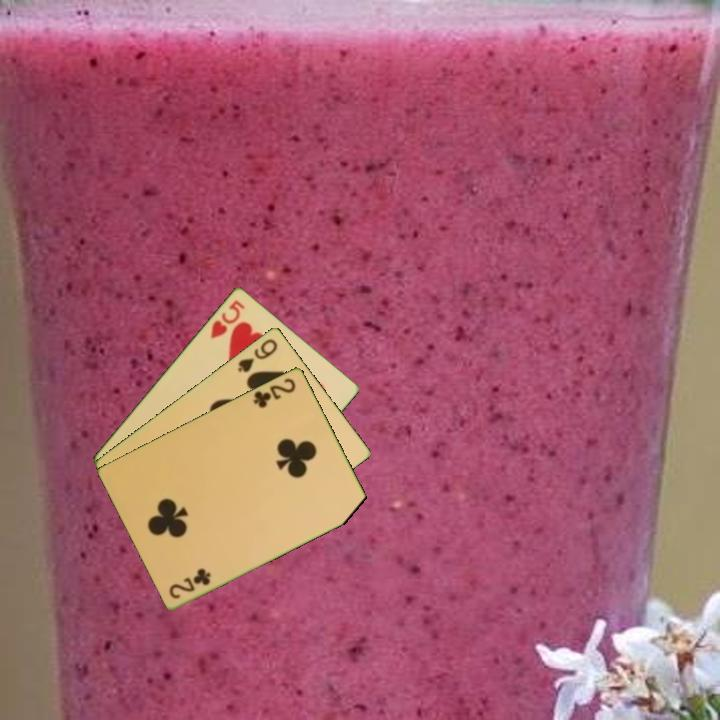2c: (250, 374, 299, 411), (165, 565, 214, 601)
5h: (207, 296, 248, 341)
9s: (234, 335, 281, 375)
